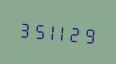five: (30, 17, 42, 42)
nine: (83, 22, 95, 47)
one: (44, 18, 56, 43), (57, 19, 69, 44)
three: (17, 16, 29, 41)
two: (70, 21, 82, 46)
